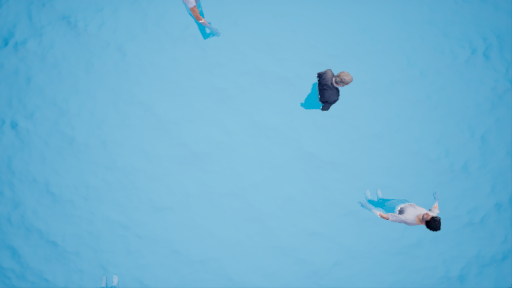person: (345, 170, 452, 241), (285, 66, 354, 111), (174, 1, 217, 43)
